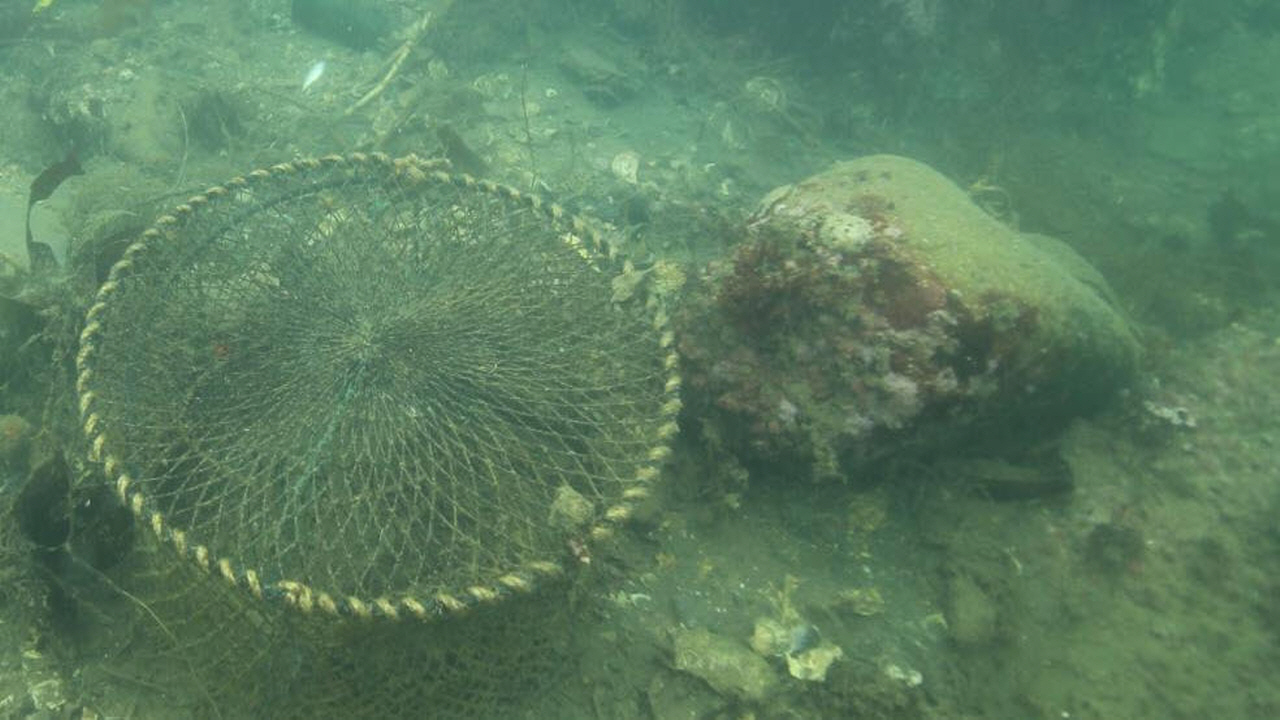circular fish trap: (74, 149, 684, 720)
